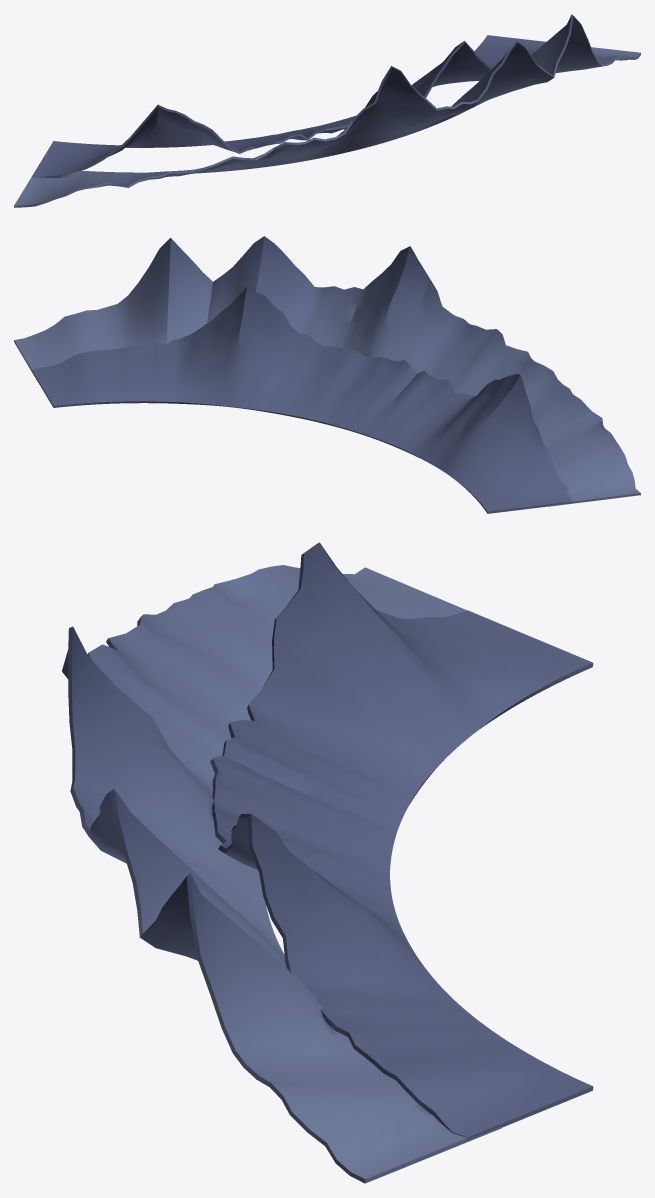
The model's file is mountain_range.fbx.
3 views of the same model, one above another, from view 1: azimuth 30°, elevation 25°; view 2: azimuth 150°, elevation 25°; view 3: azimuth 270°, elevation 25° (orthographic). The views are drawn at different scales.
Visible parts, largest first — view 1: mountain_range; view 2: mountain_range; view 3: mountain_range.
Part boxes in pixels (x1,y1,x2,y2): mountain_range: (14,14,640,207); mountain_range: (14,236,640,513); mountain_range: (62,542,593,1183).
Bounding box in the file's own units: 90859 × 16858 × 33343.
Materials: 1 (1 with a texture image).
